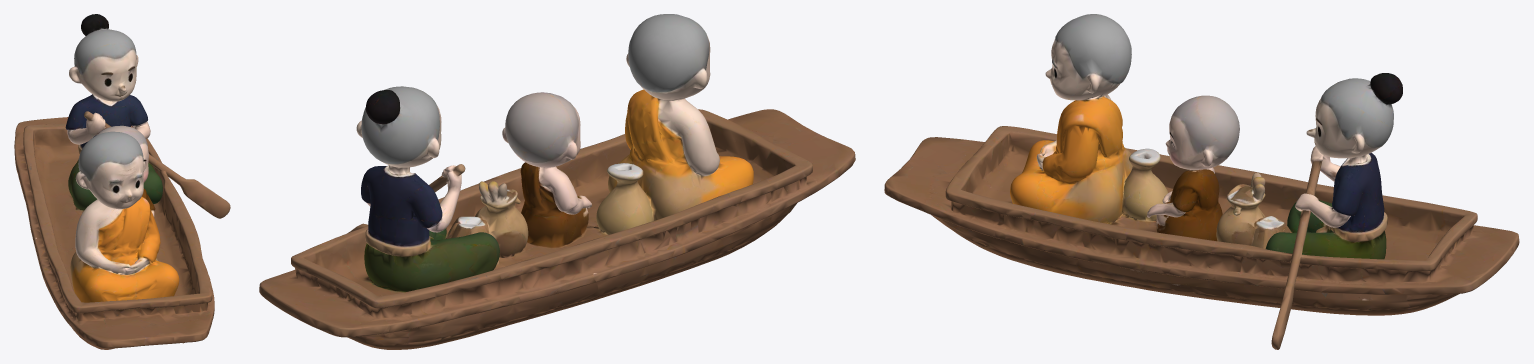
The model's file is boat-main.glb.
3 renders of one model, left to right at view 1: azimuth 30°, elevation 25°; view 2: azimuth 150°, elevation 25°; view 3: azimuth 270°, elevation 25°, orthographic. The views are drawn at different scales.
Size of the model in its own units: 1.14 by 0.7568 by 1.9.
Materials: 1 (1 with a texture image).
